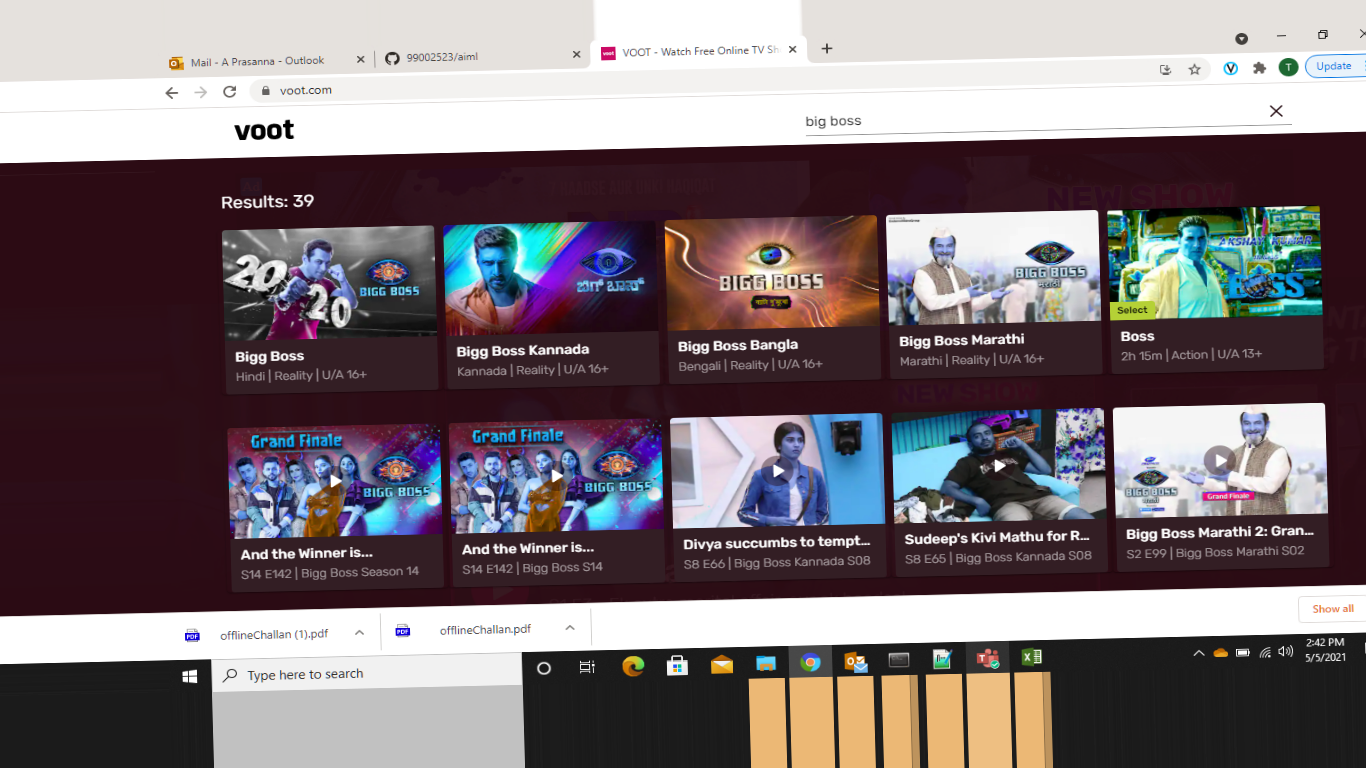resultsfound: (211, 175, 397, 220)
searchtextbox: (790, 94, 1308, 141)
